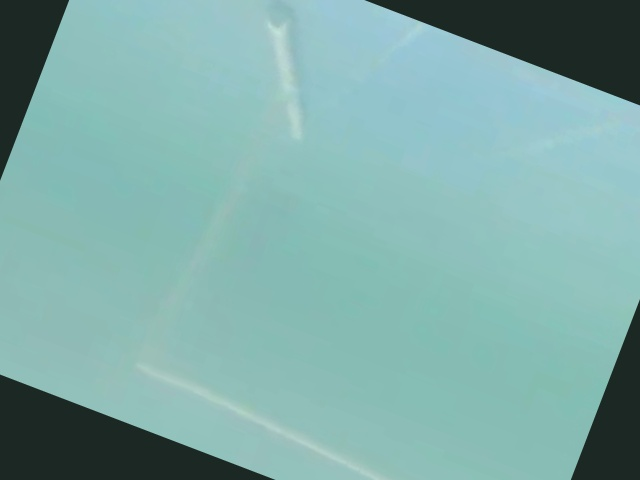gate: (119, 6, 605, 480)
